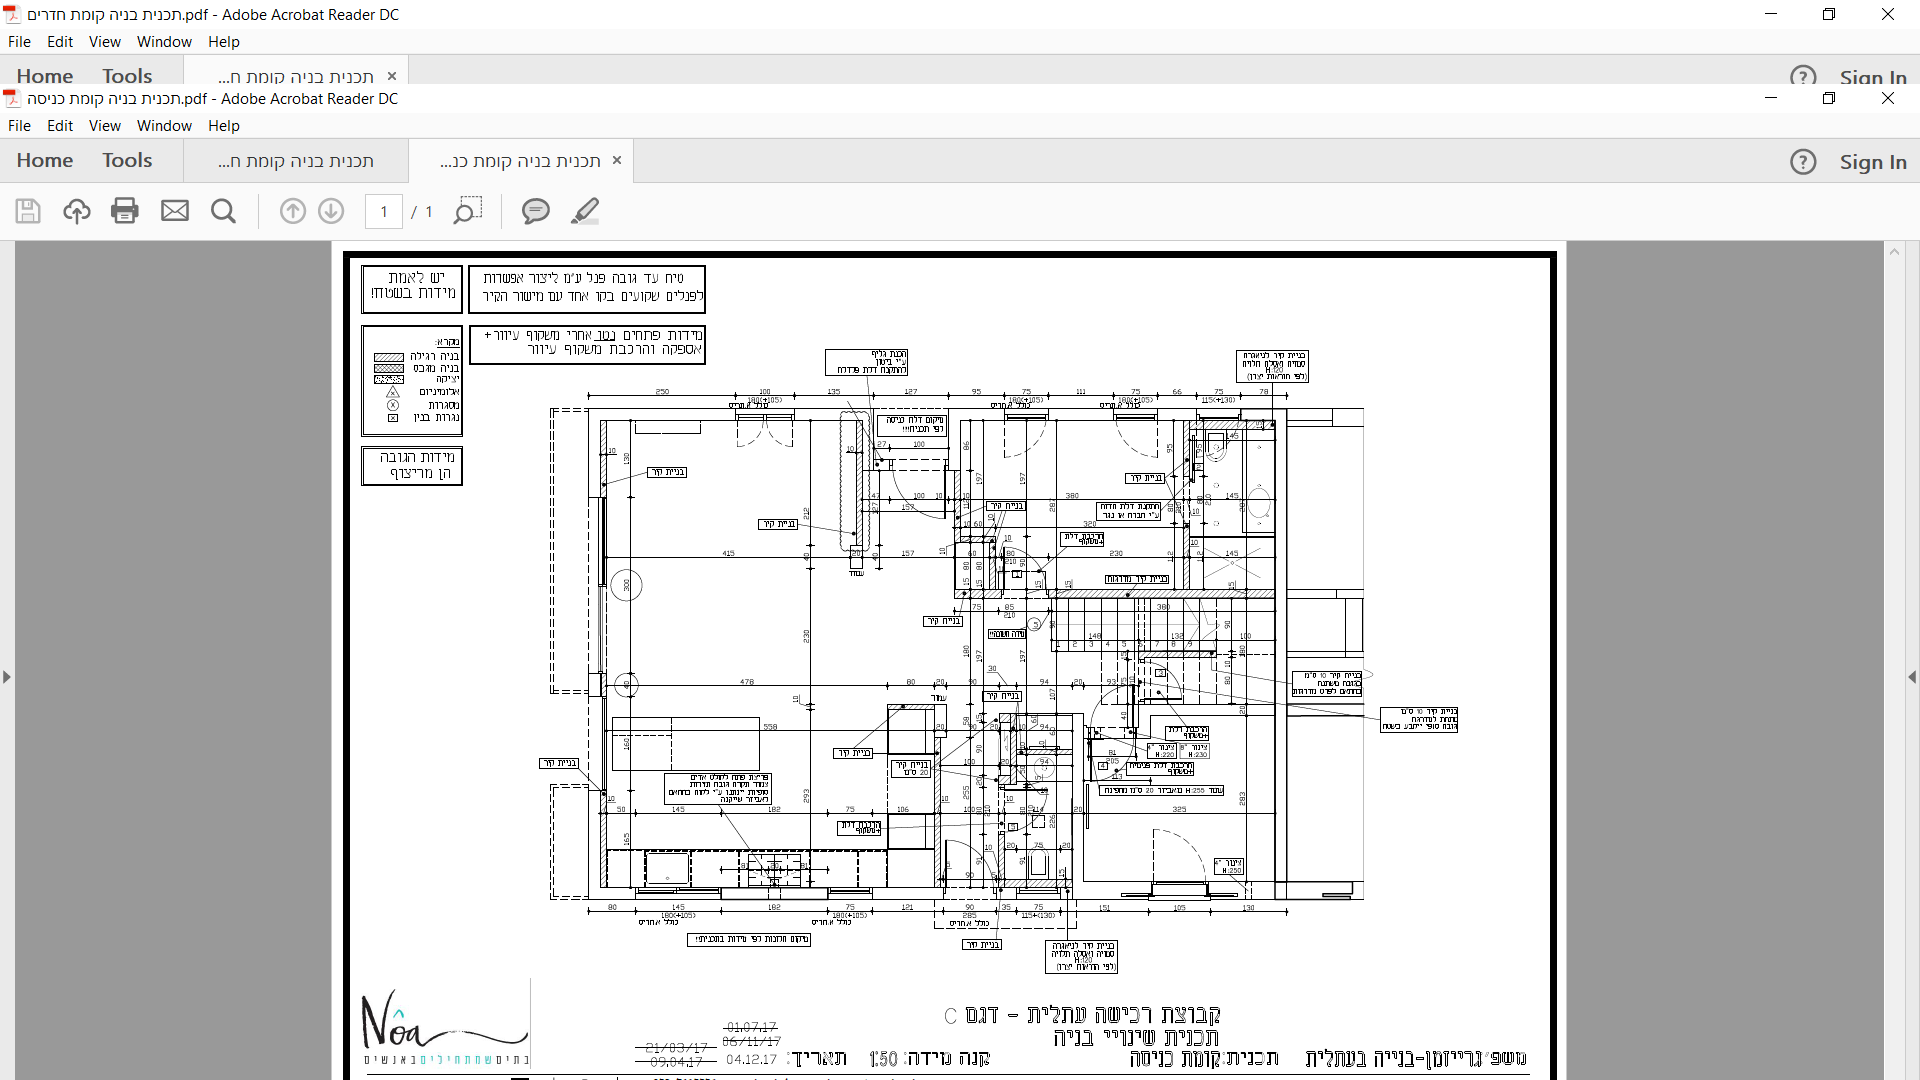wall: (601, 818, 607, 887)
window: (597, 497, 607, 585), (1004, 413, 1052, 419), (736, 414, 793, 419), (827, 887, 873, 893), (1015, 887, 1060, 891)
